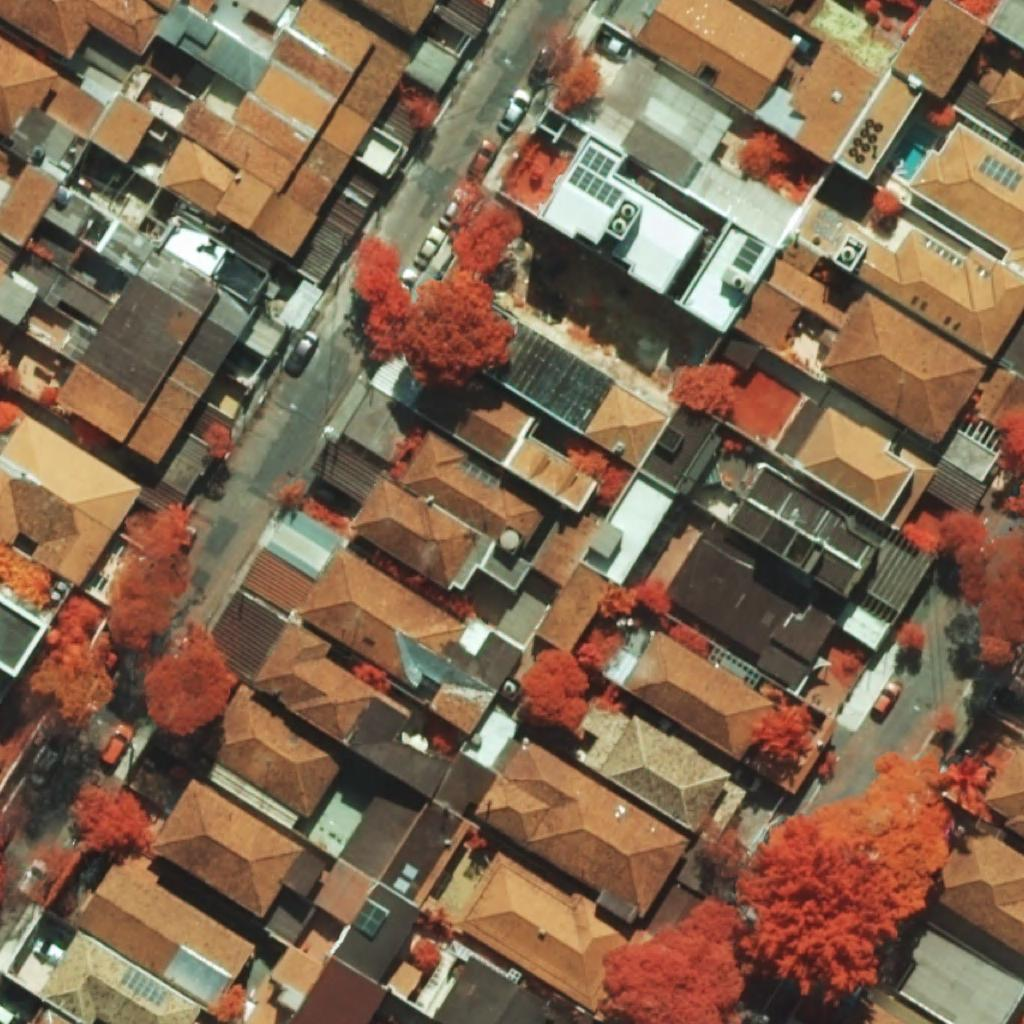pool: (890, 121, 938, 181)
